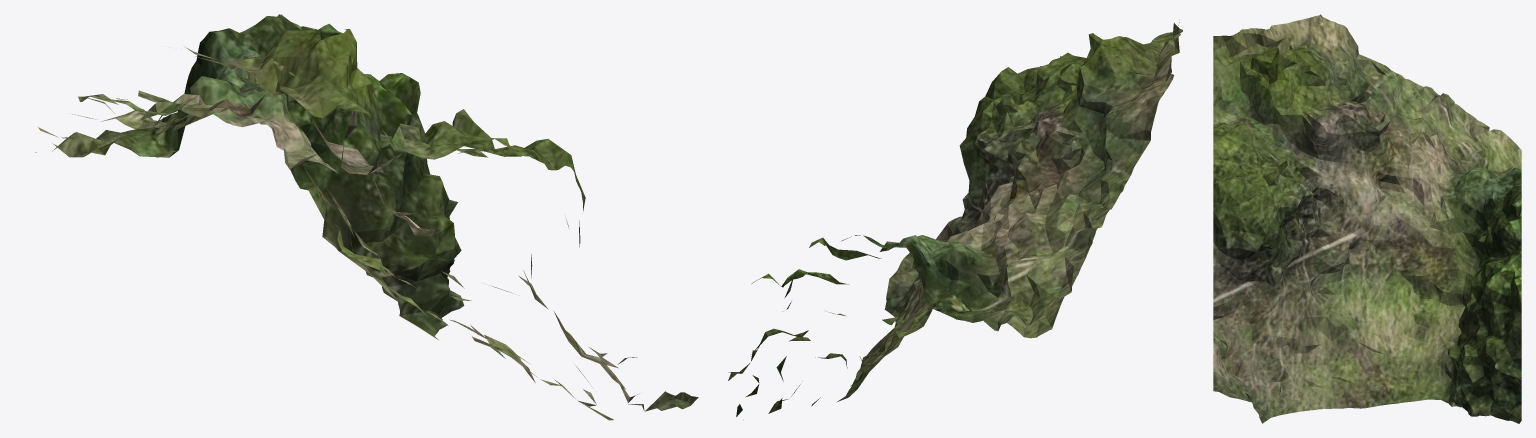
3 renders of one model, left to right at view 1: azimuth 30°, elevation 25°; view 2: azimuth 150°, elevation 25°; view 3: azimuth 270°, elevation 25°, orthographic. The views are drawn at different scales.
Size of the model in its own units: 5.9 by 5.9 by 5.9.
Materials: 4 (4 with a texture image).
